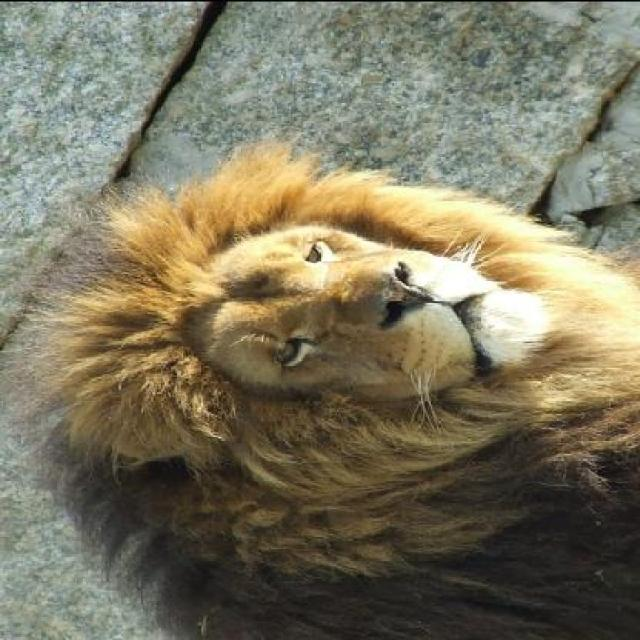Lion: (29, 143, 638, 639)
